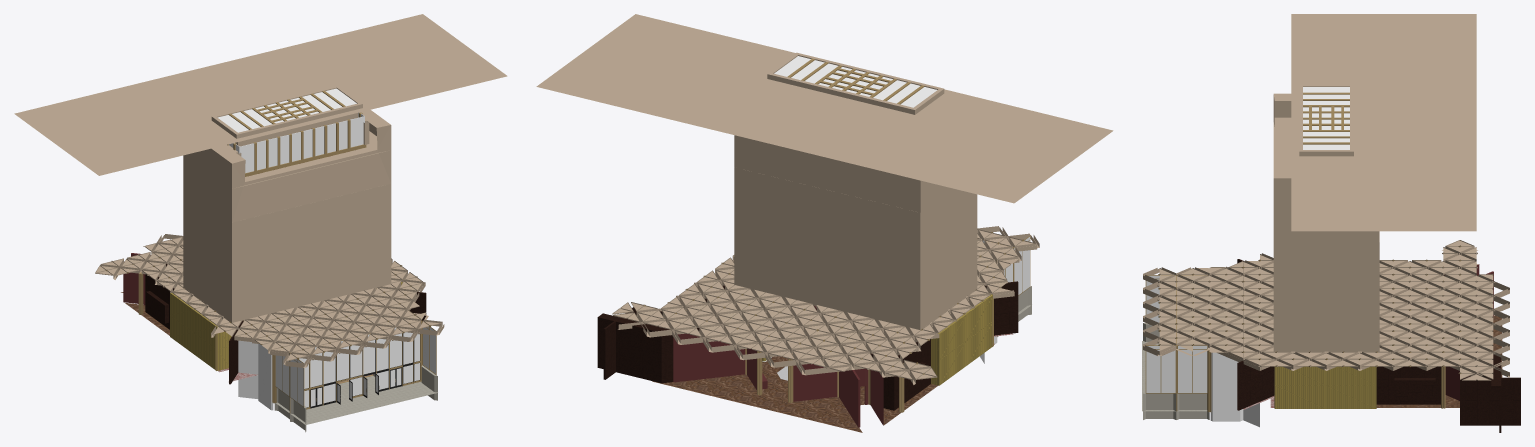
Rendered from Chancery Rosewood_LOBBY_BAKE_V4.glb.
The picture shows the model from 3 angles, left to right: view 1: azimuth 30°, elevation 25°; view 2: azimuth 150°, elevation 25°; view 3: azimuth 270°, elevation 25°; orthographic projection. The views are drawn at different scales.
Visible parts, largest first — view 1: ATRIUM_LOW, LOBBY_LOW, ENTRANCE_LOW; view 2: ATRIUM_LOW, LOBBY_LOW, ENTRANCE_LOW; view 3: ATRIUM_LOW, LOBBY_LOW, ENTRANCE_LOW.
Part boxes in pixels (left/top/right/bottom): ATRIUM_LOW: left=14, top=14, right=507, bottom=322; LOBBY_LOW: left=95, top=234, right=444, bottom=384; ENTRANCE_LOW: left=228, top=310, right=437, bottom=432; ATRIUM_LOW: left=536, top=14, right=1113, bottom=330; LOBBY_LOW: left=597, top=226, right=1039, bottom=432; ENTRANCE_LOW: left=977, top=235, right=1031, bottom=363; ATRIUM_LOW: left=1273, top=14, right=1476, bottom=351; LOBBY_LOW: left=1143, top=240, right=1520, bottom=432; ENTRANCE_LOW: left=1142, top=275, right=1270, bottom=427.
Bounding box in the file's own units: 52.4 × 30.4 × 38.6.
Materials: 27 (11 with a texture image).
